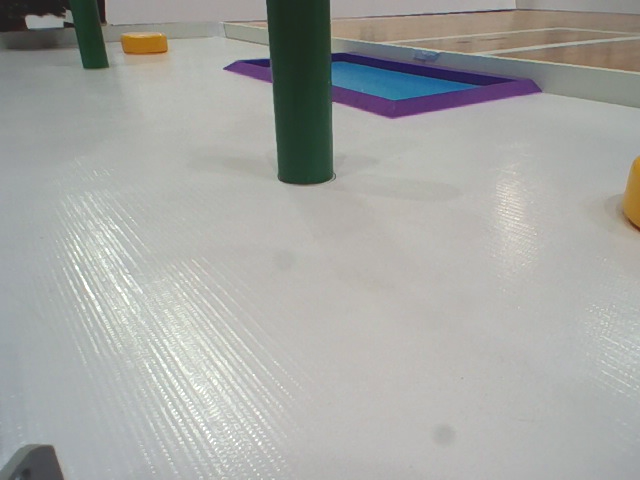kuang: (224, 38, 549, 127)
yellow: (120, 28, 170, 53)
zhuzi: (259, 1, 338, 189), (66, 1, 111, 73)
